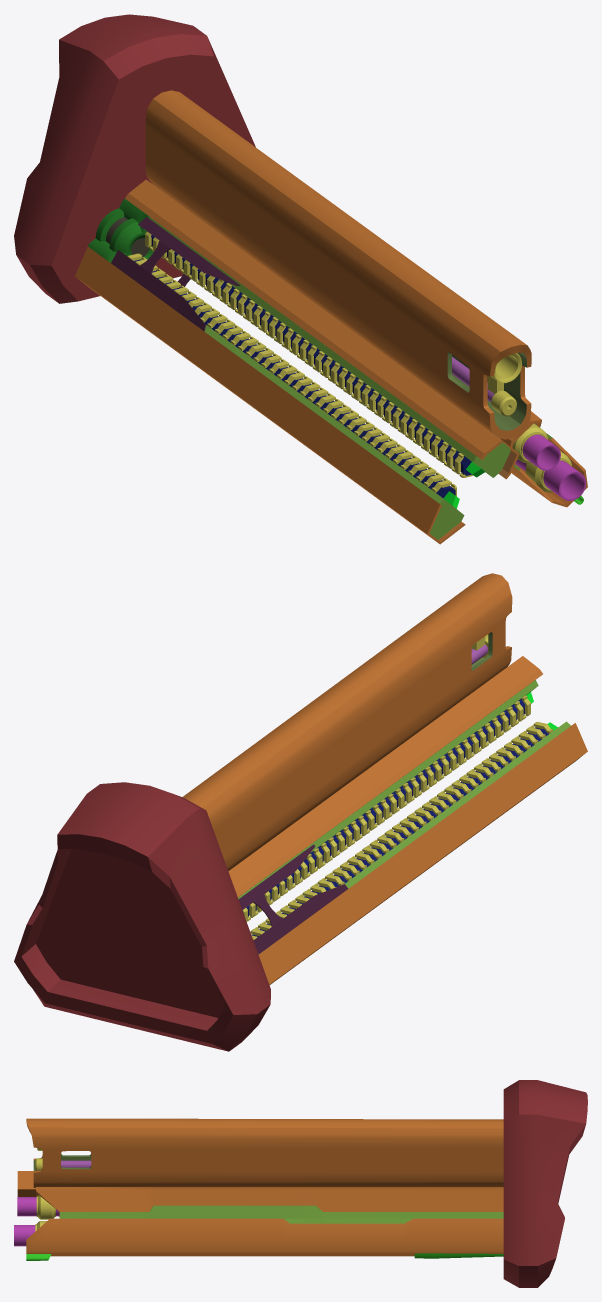
File: New Gun Barrel 1.fbx
The picture shows the model from 3 angles, top to bottom: view 1: azimuth 30°, elevation 25°; view 2: azimuth 150°, elevation 25°; view 3: azimuth 270°, elevation 25°; orthographic projection. The views are drawn at different scales.
Visible parts, largest first — view 1: Barrel Joined; view 2: Barrel Joined; view 3: Barrel Joined.
Boxes of the visible parts, box(x1,y1,x2,y2) form: Barrel Joined: box(14, 14, 587, 544); Barrel Joined: box(14, 573, 587, 1051); Barrel Joined: box(14, 1080, 587, 1287).
Bounding box in the file's own units: 25.01 × 23.14 × 72.58.
